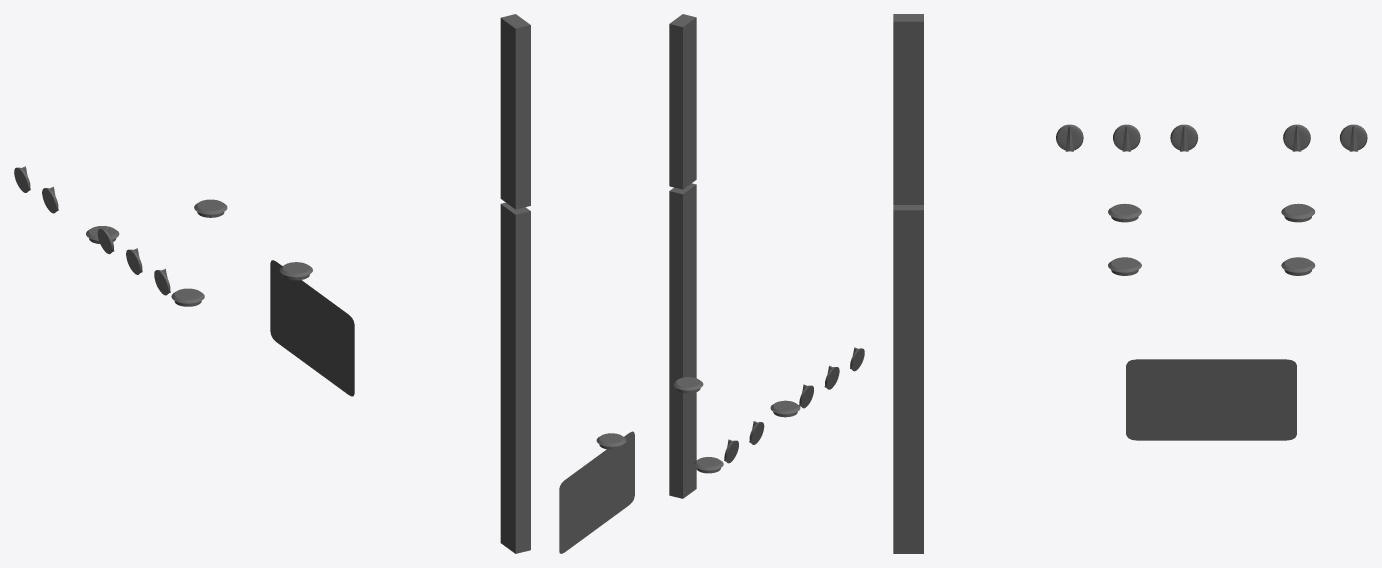
File: kitchen-grey40Plastic.obj
The picture shows the model from 3 angles, left to right: view 1: azimuth 30°, elevation 25°; view 2: azimuth 150°, elevation 25°; view 3: azimuth 270°, elevation 25°; orthographic projection. The views are drawn at different scales.
Parts seen in each view (by area): view 1: fridge_Cube.017, stove_Torus.001; view 2: fridge_Cube.017, stove_Torus.001; view 3: stove_Torus.001, fridge_Cube.017.
Part boxes in pixels (x1=…): fridge_Cube.017: x1=500, y1=14, x2=530, y2=553; stove_Torus.001: x1=14, y1=166, x2=354, y2=396; fridge_Cube.017: x1=669, y1=14, x2=696, y2=498; stove_Torus.001: x1=559, y1=347, x2=864, y2=553; stove_Torus.001: x1=1056, y1=124, x2=1367, y2=440; fridge_Cube.017: x1=893, y1=14, x2=923, y2=553.
Size of the model in its own units: 2.44 by 4.31 by 3.48.
1 material, 1 textured.
